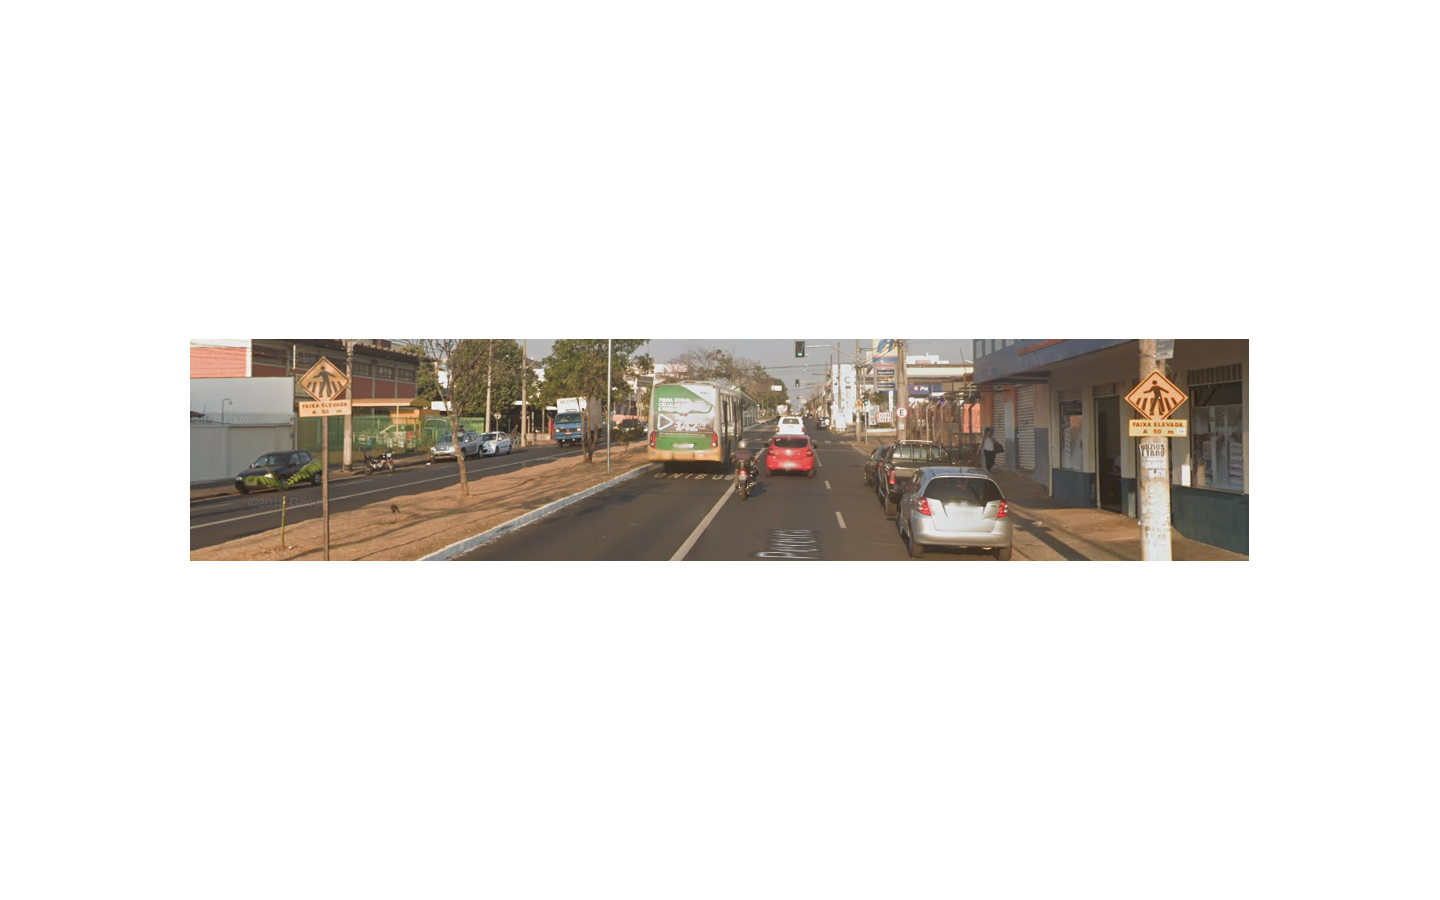t50m: (1124, 368, 1188, 437), (297, 356, 351, 417)
